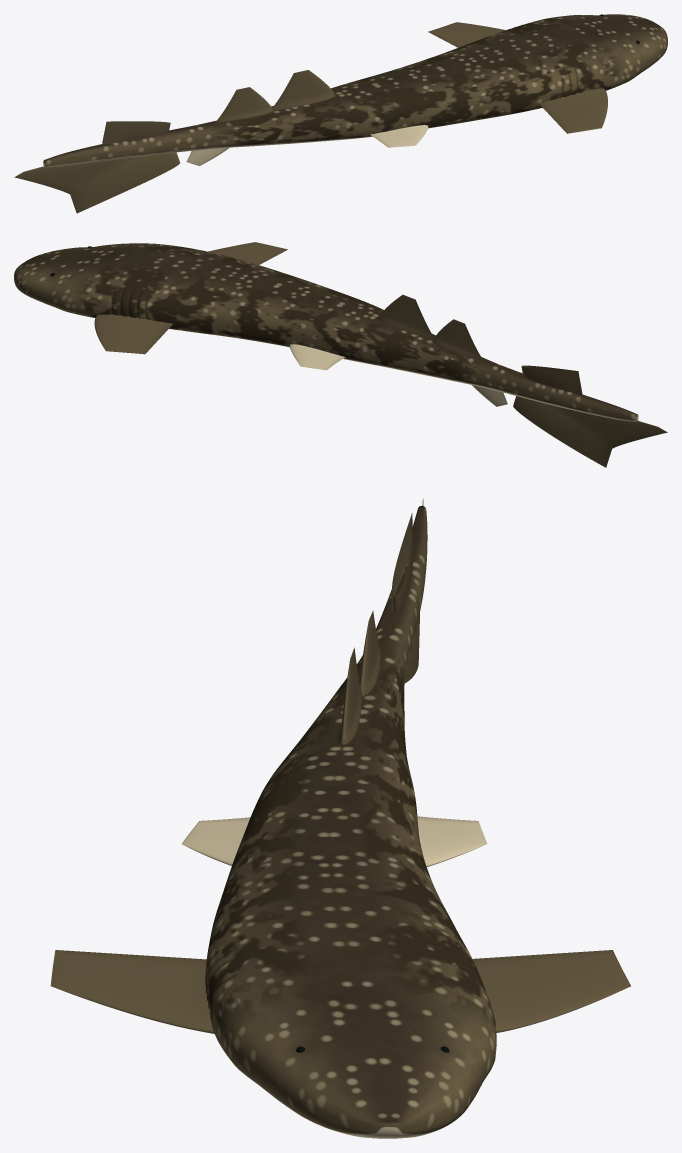
Rendered from spotted_wobbegong.glb.
The picture shows the model from 3 angles, top to bottom: view 1: azimuth 30°, elevation 25°; view 2: azimuth 150°, elevation 25°; view 3: azimuth 270°, elevation 25°; orthographic projection. The views are drawn at different scales.
Parts seen in each view (by area): view 1: SpottedWobbegong_Body, SpottedWobbegong_Fins; view 2: SpottedWobbegong_Body, SpottedWobbegong_Fins; view 3: SpottedWobbegong_Body, SpottedWobbegong_Fins.
Part boxes in pixels (box(x1,y1,x2,y2)): SpottedWobbegong_Body: box(43, 14, 667, 167); SpottedWobbegong_Fins: box(14, 22, 607, 213); SpottedWobbegong_Body: box(14, 243, 638, 421); SpottedWobbegong_Fins: box(94, 242, 667, 467); SpottedWobbegong_Body: box(205, 506, 496, 1138); SpottedWobbegong_Fins: box(50, 498, 630, 1033).
Size of the model in its own units: 1.8 by 0.2789 by 0.7065.
3 materials, 1 textured.
